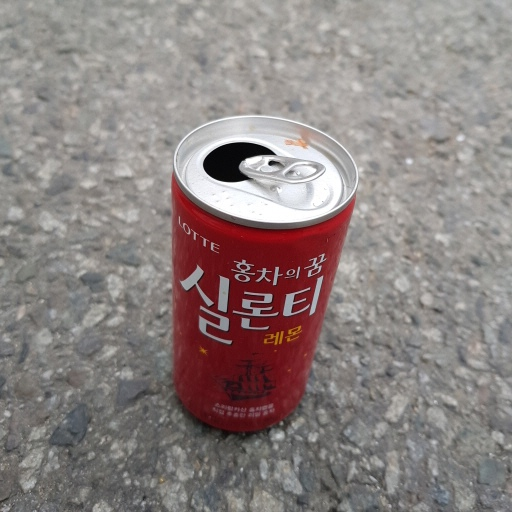Metal_0: (163, 114, 362, 433)
